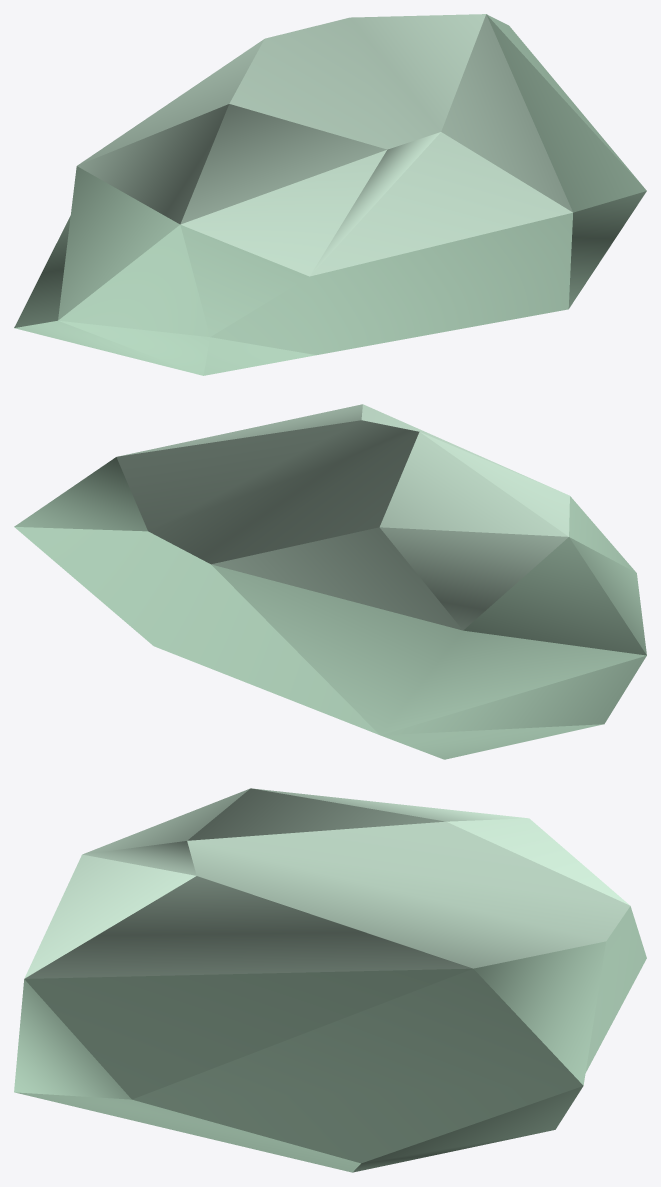
The picture shows the model from 3 angles, top to bottom: view 1: azimuth 30°, elevation 25°; view 2: azimuth 150°, elevation 25°; view 3: azimuth 270°, elevation 25°; orthographic projection. The views are drawn at different scales.
Parts seen in each view (by area): view 1: Object062; view 2: Object062; view 3: Object062.
Boxes of the visible parts, box(x1,y1,x2,y2) form: Object062: box(14, 14, 646, 375); Object062: box(14, 404, 646, 759); Object062: box(14, 788, 646, 1172).
Bounding box in the file's own units: 268 × 92.29 × 203.
